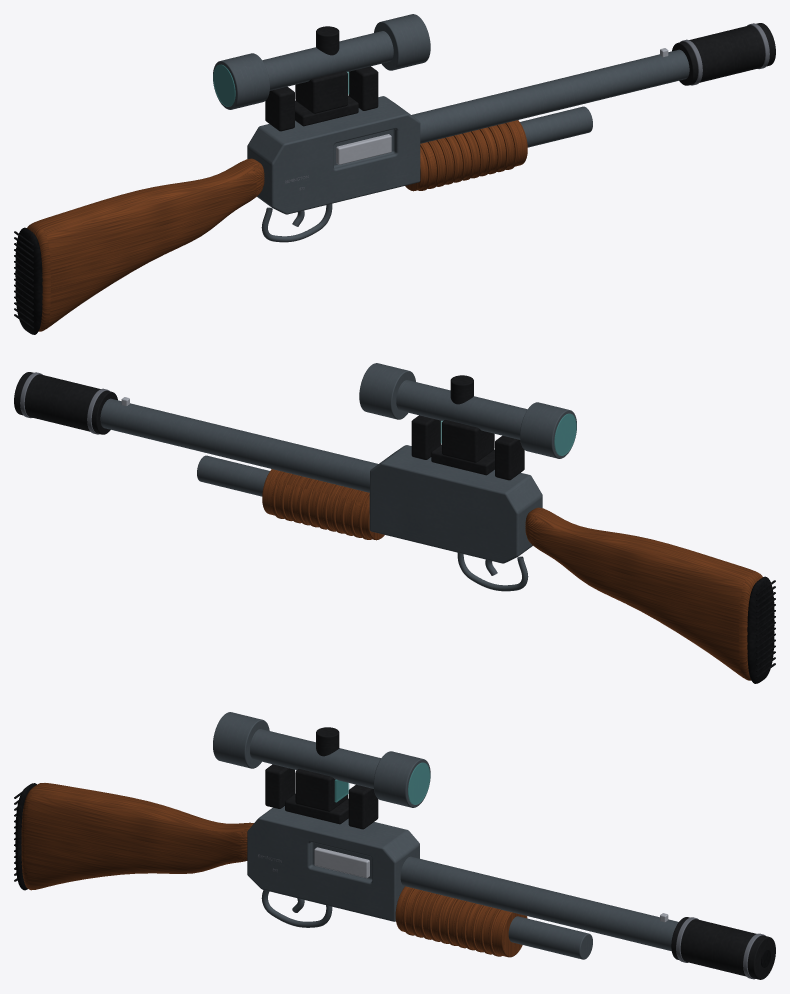
File: shotgun.glb
3 views of the same model, one above another, from view 1: azimuth 30°, elevation 25°; view 2: azimuth 150°, elevation 25°; view 3: azimuth 330°, elevation 25° (orthographic).
Parts seen in each view (by area): view 1: Sculpted shotgun stock, Receiver.001, Barrel.002, optic_scope_tube.003, muzzle_suppressor.002, Wooden pump, optic_scope_bell.006, optic_scope_bell.007, Rubber recoil pad, Magazine tube, optic_red_body.003, optic_scope_mount.006 (+6 smaller); view 2: Sculpted shotgun stock, Receiver.001, Barrel.002, optic_scope_tube.003, muzzle_suppressor.002, Wooden pump, optic_scope_bell.006, optic_scope_bell.007, Rubber recoil pad, Magazine tube, optic_red_body.003, optic_scope_mount.006 (+5 smaller); view 3: Sculpted shotgun stock, Receiver.001, Barrel.002, muzzle_suppressor.002, optic_scope_tube.003, Wooden pump, optic_scope_bell.007, Magazine tube, optic_scope_bell.006, optic_red_body.003, optic_scope_mount.007, optic_scope_mount.006 (+6 smaller).
Part boxes in pixels (x1=…): Sculpted shotgun stock: x1=27, y1=158, x2=264, y2=331; Receiver.001: x1=247, y1=96, x2=420, y2=214; Barrel.002: x1=412, y1=50, x2=688, y2=143; optic_scope_tube.003: x1=262, y1=31, x2=393, y2=90; muzzle_suppressor.002: x1=672, y1=23, x2=775, y2=85; Wooden pump: x1=405, y1=120, x2=527, y2=191; optic_scope_bell.006: x1=213, y1=53, x2=269, y2=109; optic_scope_bell.007: x1=374, y1=14, x2=430, y2=70; Rubber recoil pad: x1=15, y1=227, x2=42, y2=334; Magazine tube: x1=520, y1=106, x2=592, y2=147; optic_red_body.003: x1=295, y1=71, x2=347, y2=113; optic_scope_mount.006: x1=265, y1=86, x2=294, y2=131; Sculpted shotgun stock: x1=525, y1=507, x2=762, y2=680; Receiver.001: x1=369, y1=445, x2=542, y2=563; Barrel.002: x1=101, y1=399, x2=377, y2=492; optic_scope_tube.003: x1=396, y1=380, x2=527, y2=439; muzzle_suppressor.002: x1=14, y1=372, x2=117, y2=434; Wooden pump: x1=262, y1=469, x2=384, y2=540; optic_scope_bell.006: x1=520, y1=402, x2=576, y2=458; optic_scope_bell.007: x1=359, y1=363, x2=415, y2=419; Rubber recoil pad: x1=747, y1=576, x2=774, y2=683; Magazine tube: x1=197, y1=455, x2=269, y2=496; optic_red_body.003: x1=442, y1=420, x2=494, y2=462; optic_scope_mount.006: x1=495, y1=435, x2=524, y2=480; Sculpted shotgun stock: x1=21, y1=783, x2=253, y2=890; Receiver.001: x1=247, y1=806, x2=419, y2=921; Barrel.002: x1=400, y1=856, x2=678, y2=951; muzzle_suppressor.002: x1=671, y1=917, x2=775, y2=979; optic_scope_tube.003: x1=250, y1=729, x2=380, y2=788; Wooden pump: x1=395, y1=886, x2=527, y2=957; optic_scope_bell.007: x1=373, y1=751, x2=430, y2=807; Magazine tube: x1=508, y1=916, x2=592, y2=959; optic_scope_bell.006: x1=213, y1=712, x2=269, y2=768; optic_red_body.003: x1=295, y1=769, x2=347, y2=811; optic_scope_mount.007: x1=348, y1=784, x2=378, y2=829; optic_scope_mount.006: x1=265, y1=764, x2=294, y2=808.
Size of the model in its own units: 2.5 by 0.7345 by 0.16.
Materials: 7 (6 with a texture image).
